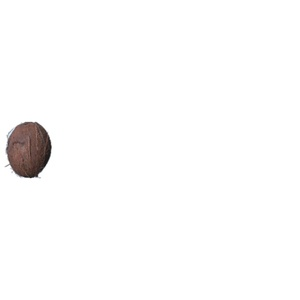coco: (4, 122, 52, 178)
